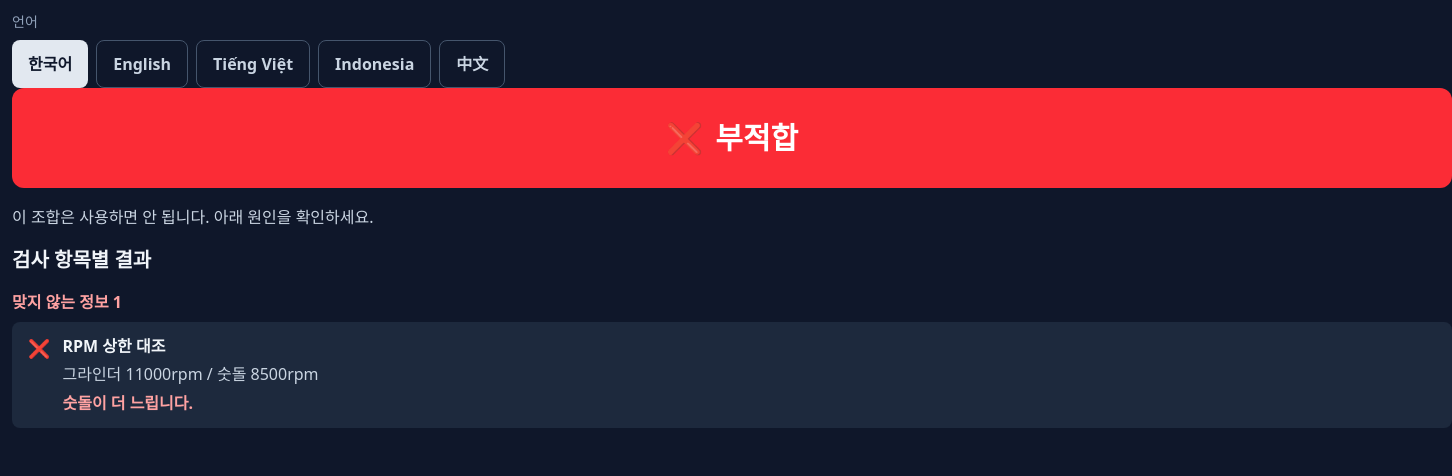
Test case: LanguagePicker › 고른 언어로 판정 문구가 바뀐다
What coordinates should you click on to do the following:
click the button "한국어"
I would click on:
 (50, 64)
Its box is [12,40,88,88].
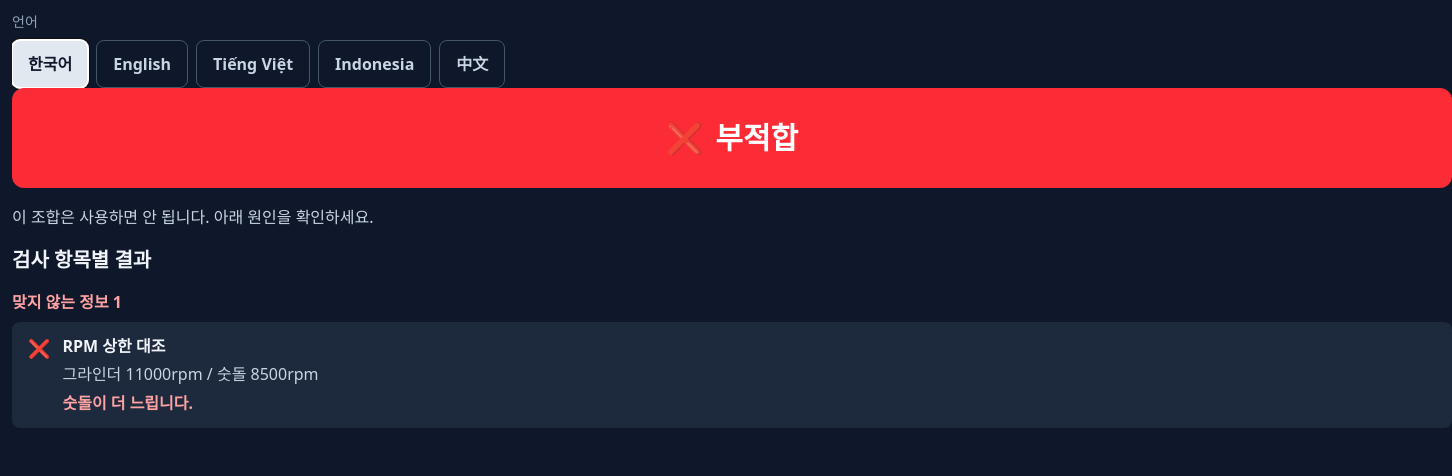
Expected: the text "부적합" is shown, [715,120,798,156]
What coordinates should you click on to do the following:
click the button "English"
I would click on:
 (142, 64)
Its box is [96,40,188,88].
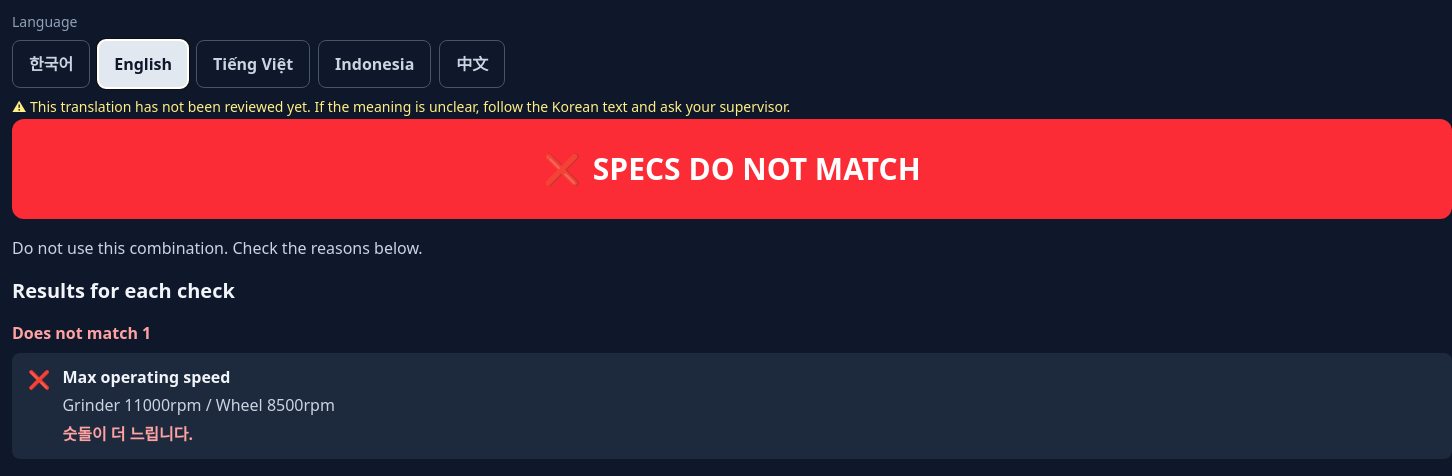
Expected: the text "SPECS DO NOT MATCH" is shown, [593,151,921,187]
Expected: the text "부적합" is gone
What coordinates should you click on to do the following:
click the button "Tiếng Việt"
I would click on:
 (253, 64)
Its box is [196,40,310,88].
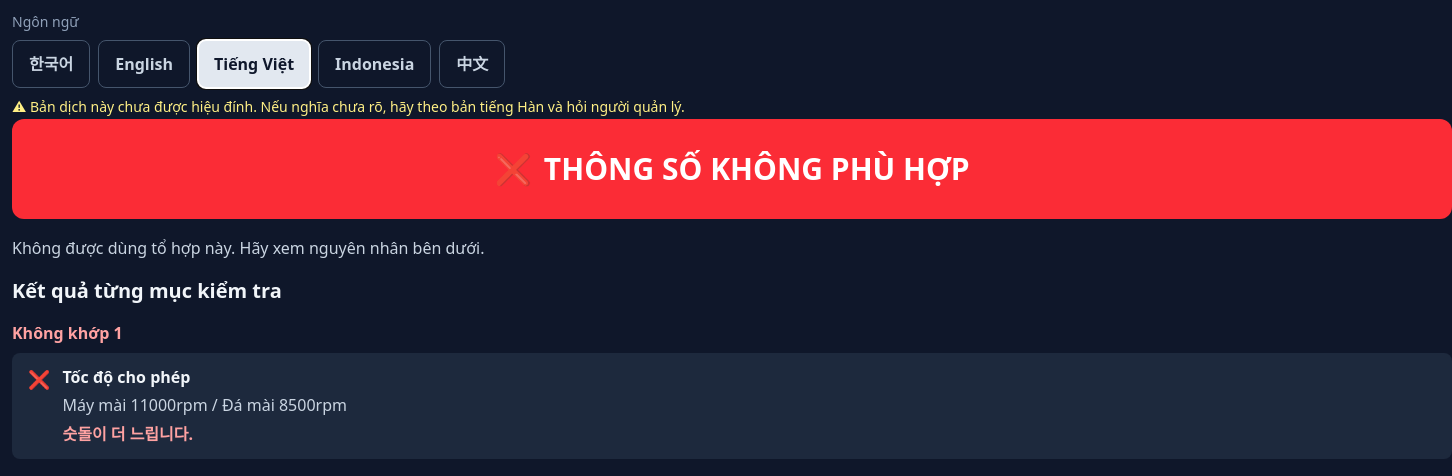
Expected: the text "THÔNG SỐ KHÔNG PHÙ HỢP" is shown, [544,151,970,187]
